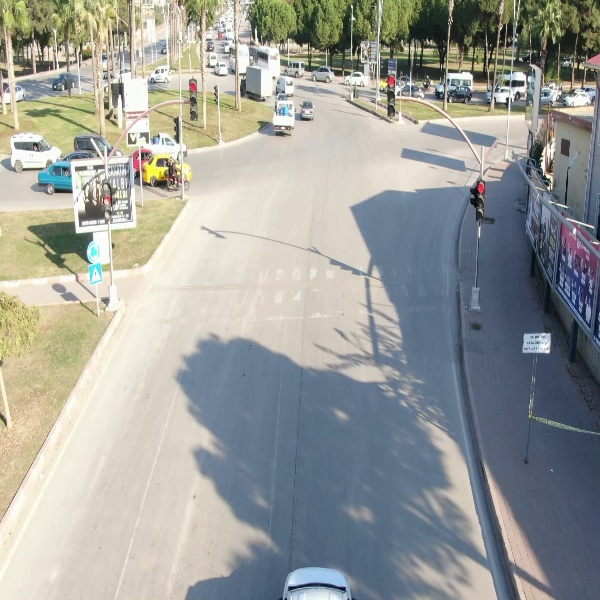car: (7, 133, 64, 172), (562, 87, 594, 110), (443, 83, 472, 106), (487, 85, 519, 104), (146, 65, 174, 86), (342, 70, 368, 92), (308, 63, 335, 84), (296, 99, 317, 124), (52, 72, 76, 92), (283, 61, 308, 79), (212, 60, 228, 79)
